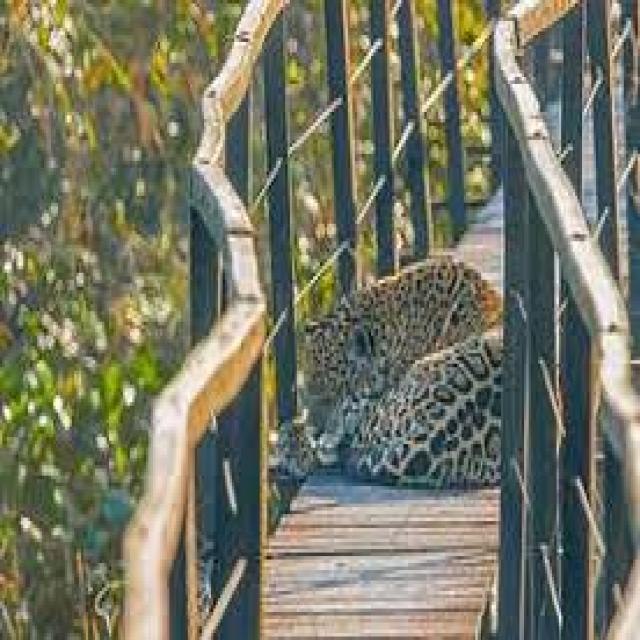Jaguar: (299, 255, 503, 497)
